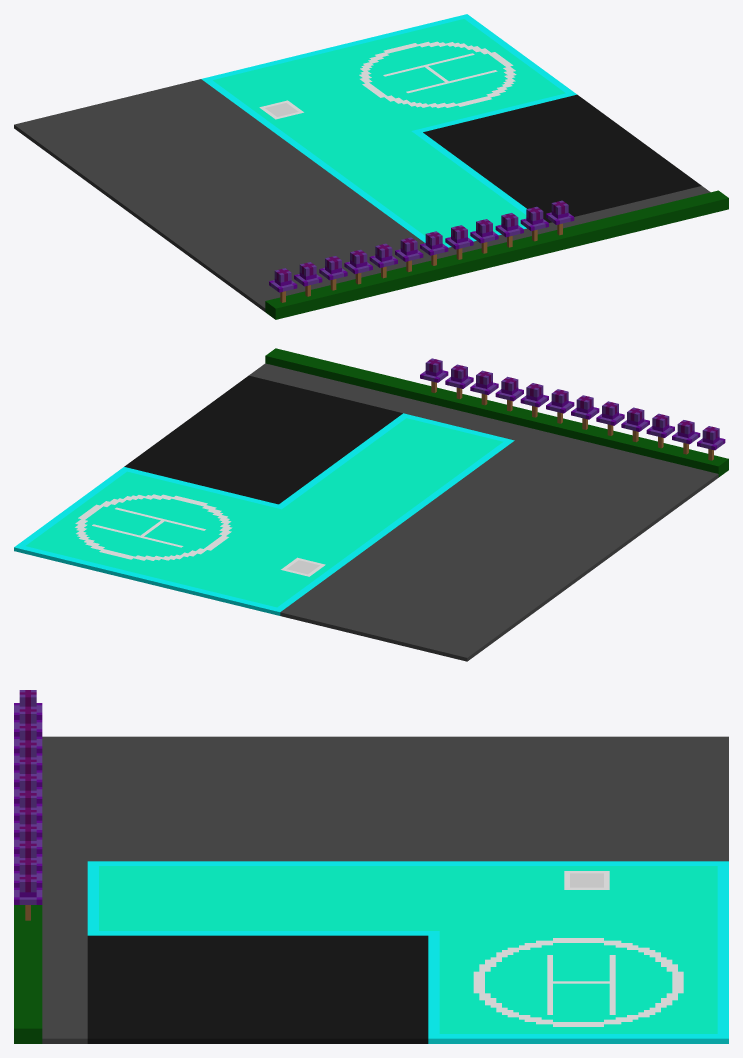
File: Legorreta-6.obj
3 renders of one model, top to bottom at view 1: azimuth 30°, elevation 25°; view 2: azimuth 150°, elevation 25°; view 3: azimuth 270°, elevation 25°, orthographic. The views are drawn at different scales.
Bounding box in the file's own units: 12.6 × 1.1 × 12.6.
1 material, 1 textured.
